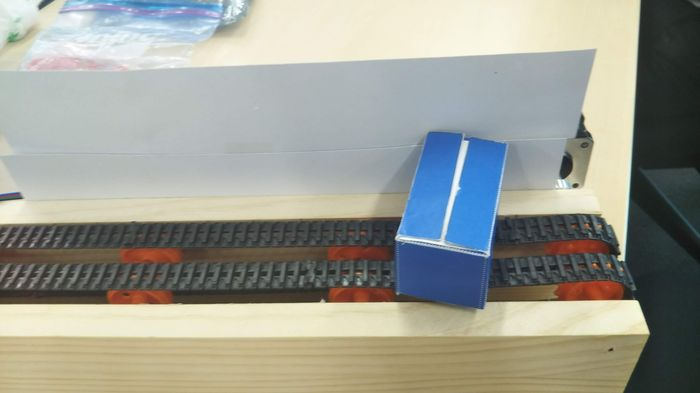box3: (388, 127, 507, 309)
